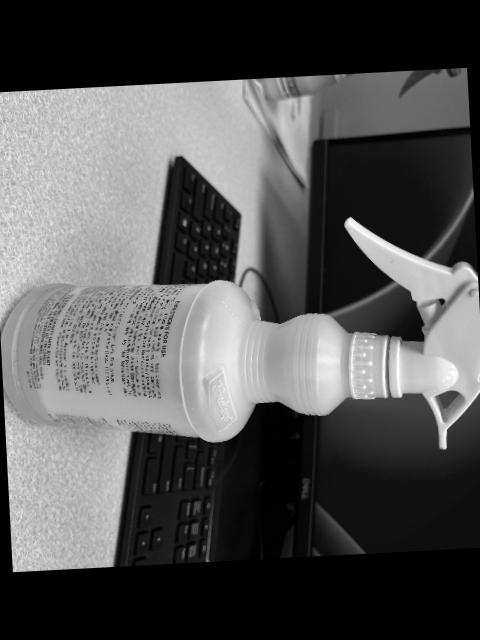StarSpray: (0, 217, 480, 448)
